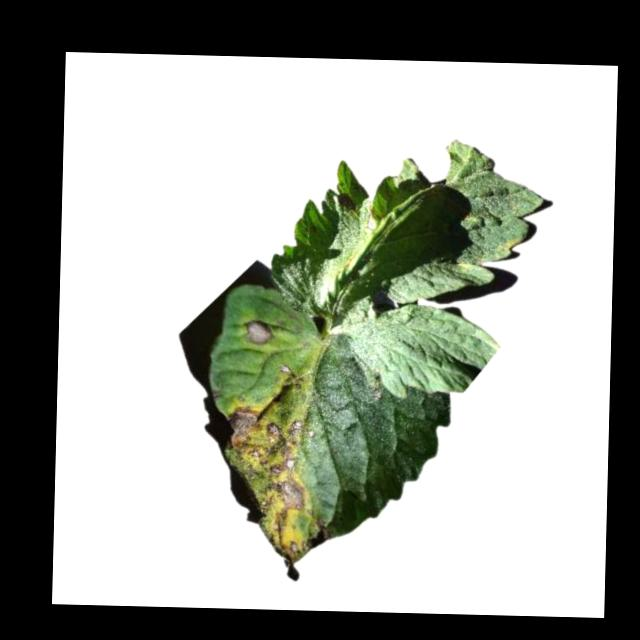Early_blight: (223, 404, 333, 564), (243, 320, 274, 345), (278, 364, 303, 392), (338, 191, 356, 212)
